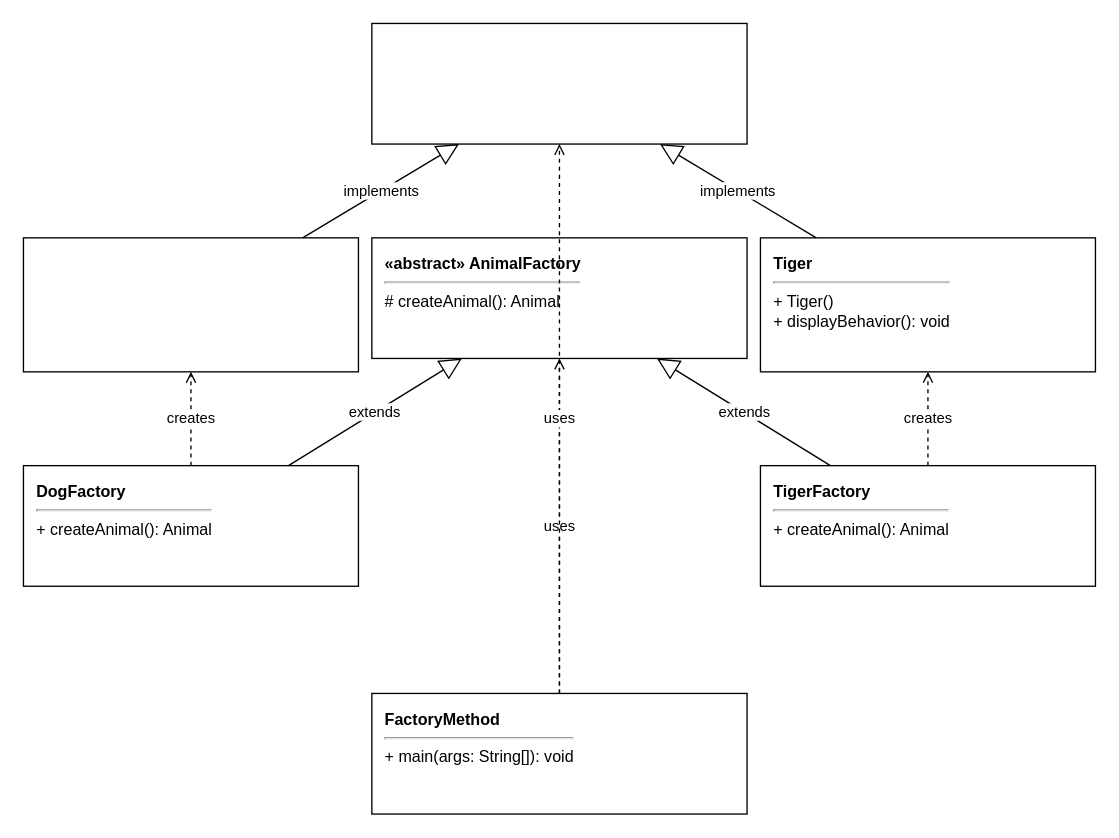
Image size: 1119x838. Some labels were removed from this diagram. Here are the shapes that lost their labels. From the top down, the centre of each, then its label:
(x=559, y=83): «interface» Animal + displayBehavior(): void
(x=190, y=304): Dog + Dog() + displayBehavior(): void
